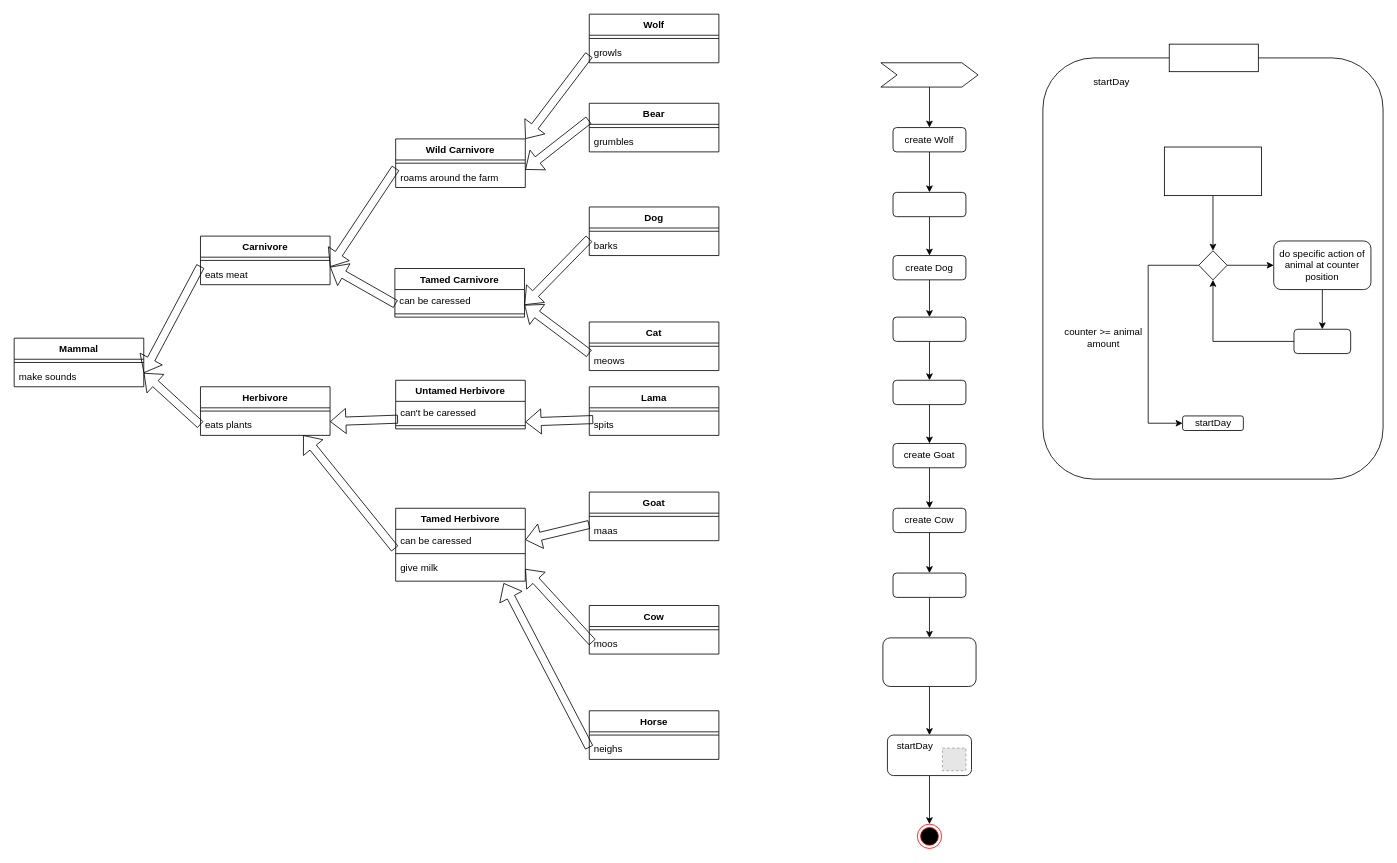
Some shapes in this 1397 by 863 pixel diagram are drawn without their labels. Grey dashed boxes stand in for pictures. The shapes that lost their labels are listed below. From the top down, each one's centre as x and y in pixels, then its label:
(x=929, y=74): onLoad
(x=1213, y=57): Animal Array
(x=1213, y=171): counter = 0
(x=929, y=204): create Bear
(x=929, y=328): create Cat
(x=1322, y=341): counter ++
(x=929, y=392): create Lama
(x=929, y=584): create Horse
(x=929, y=661): add all animals to Array of Type Mammal
